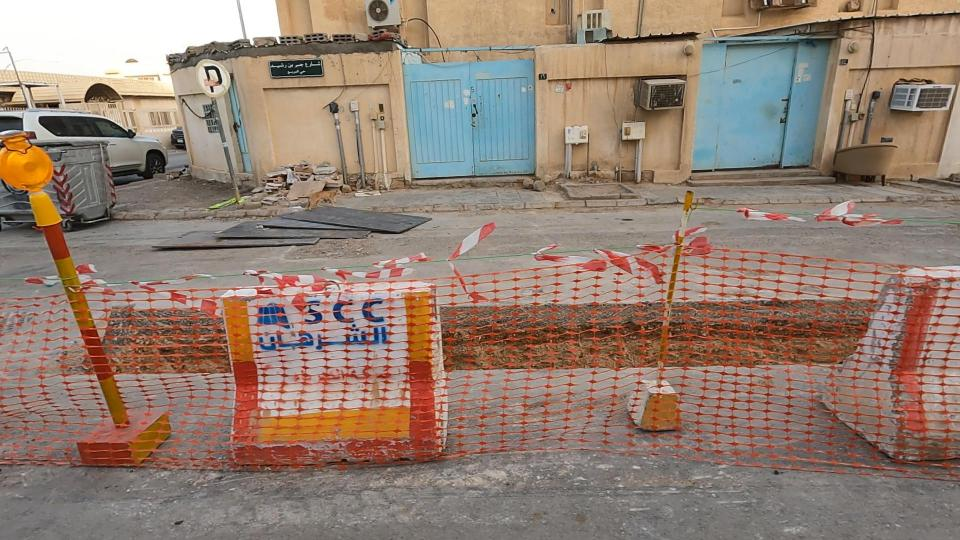CONSTRUCTION_ROAD: (152, 175, 960, 478), (0, 175, 475, 488)
FADED_SIGNAGE: (162, 30, 259, 135)
GARBAGE: (176, 120, 427, 239), (181, 156, 269, 242)
